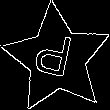P_S: (34, 30, 80, 87)
